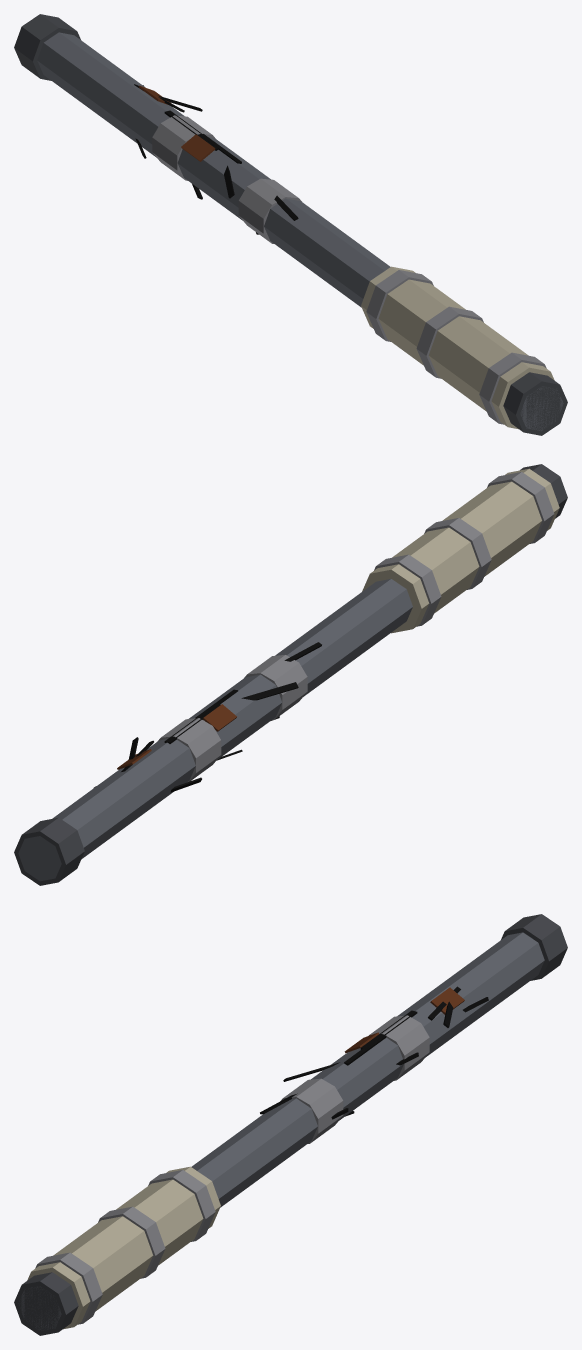
Rendered from pipe_grip_w2.glb.
The picture shows the model from 3 angles, top to bottom: view 1: azimuth 30°, elevation 25°; view 2: azimuth 150°, elevation 25°; view 3: azimuth 330°, elevation 25°; orthographic projection.
Visible parts, largest first — view 1: pipe_grip_w2; view 2: pipe_grip_w2; view 3: pipe_grip_w2.
Part boxes in pixels (left/top/right/bottom): pipe_grip_w2: left=14, top=14, right=567, bottom=435; pipe_grip_w2: left=14, top=464, right=567, bottom=885; pipe_grip_w2: left=14, top=914, right=567, bottom=1335.
Bounding box in the file's own units: 0.0645 × 0.06 × 0.8.
